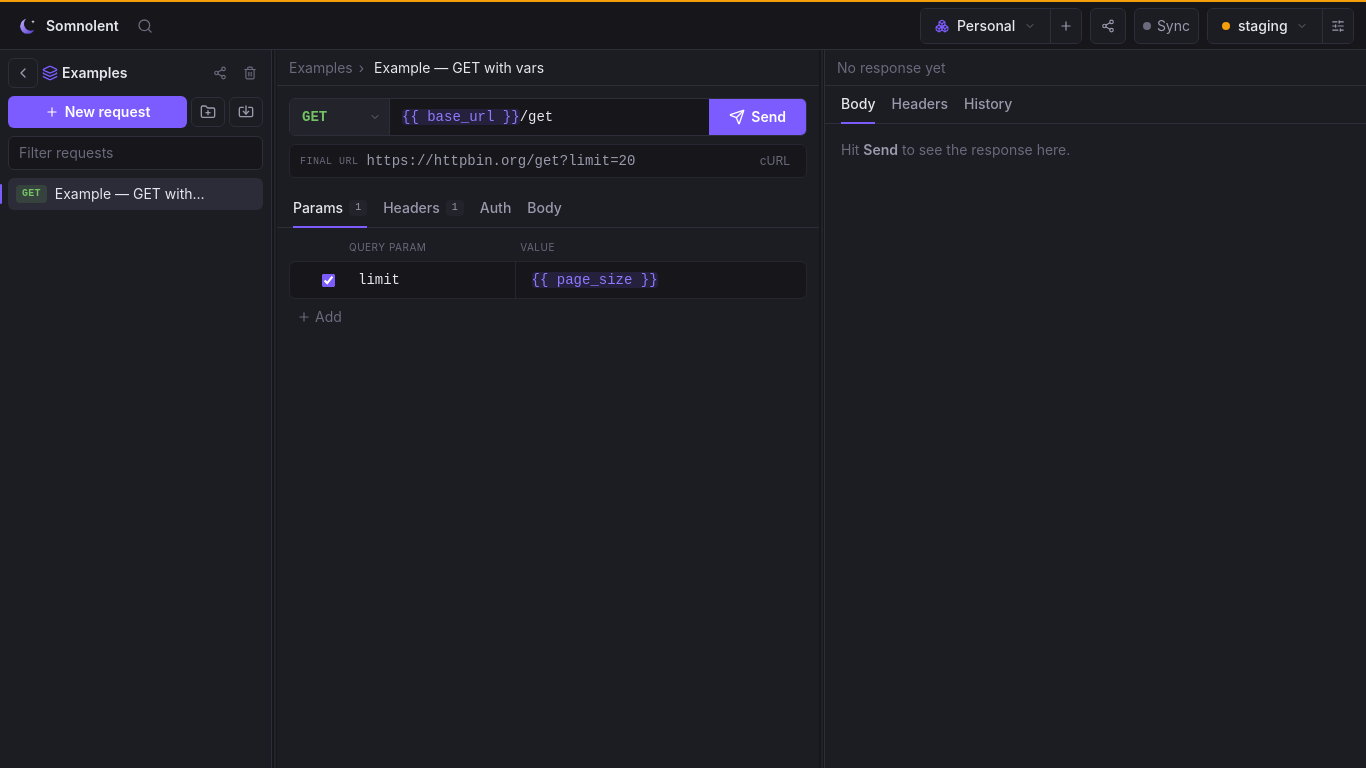
Test: empty screen and deletion › cancelling in the dialog deletes nothing
The image size is (1366, 768).
Click the button named "Delete this collection".
click(250, 73)  # box x1=237 y1=62 x2=263 y2=84
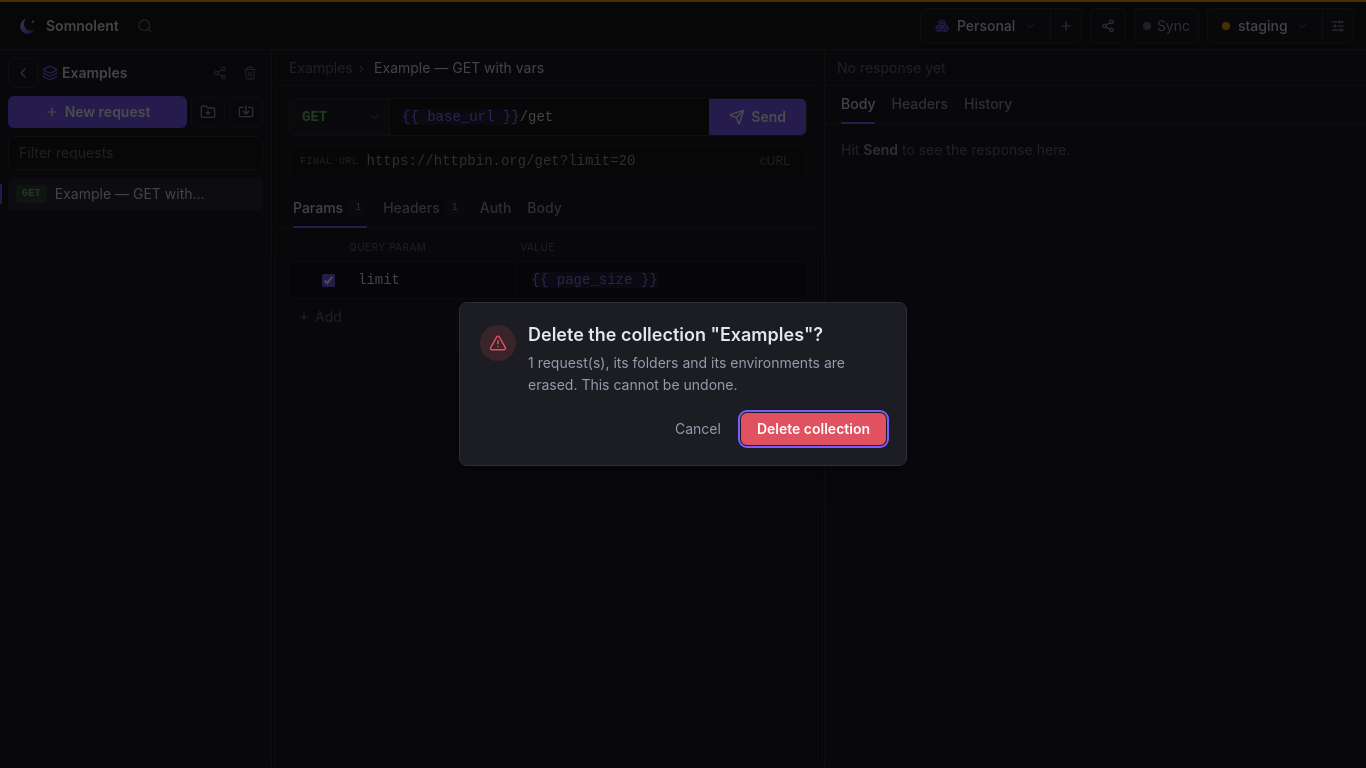
Click the button "Cancel".
click(698, 429)  # box x1=663 y1=413 x2=733 y2=445
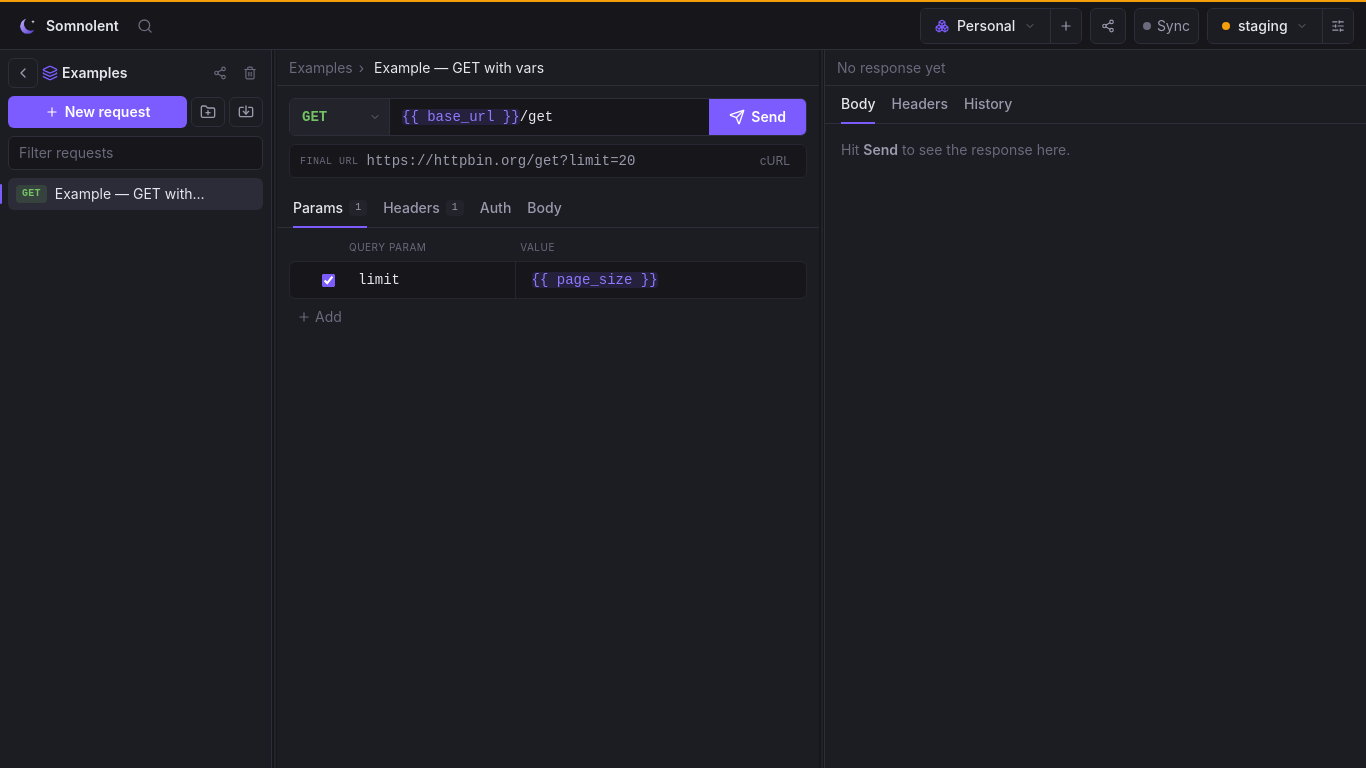
Expected: the dialog is gone
